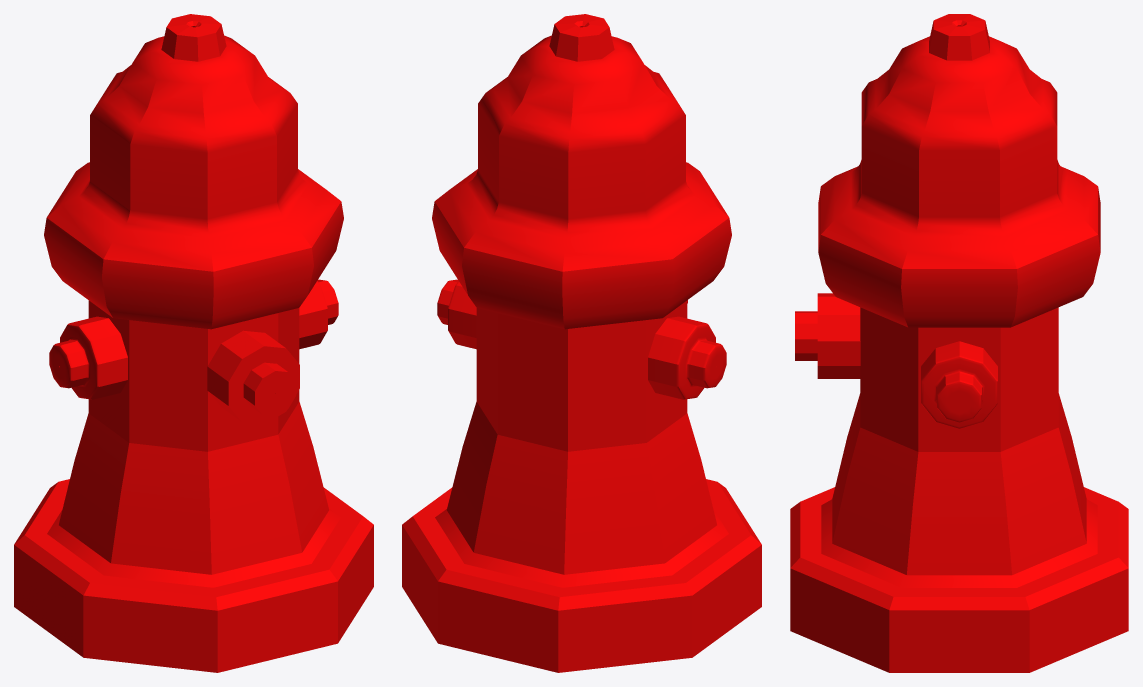
Rendered from HydrantAsset.fbx.
3 renders of one model, left to right at view 1: azimuth 30°, elevation 25°; view 2: azimuth 150°, elevation 25°; view 3: azimuth 270°, elevation 25°, orthographic.
Visible parts, largest first — view 1: Hydrant; view 2: Hydrant; view 3: Hydrant.
Part boxes in pixels (x1,y1,x2,y2): Hydrant: (14,14,373,672); Hydrant: (402,14,761,672); Hydrant: (790,14,1128,672).
Bounding box in the file's own units: 0.7234 × 1.36 × 0.7234.
